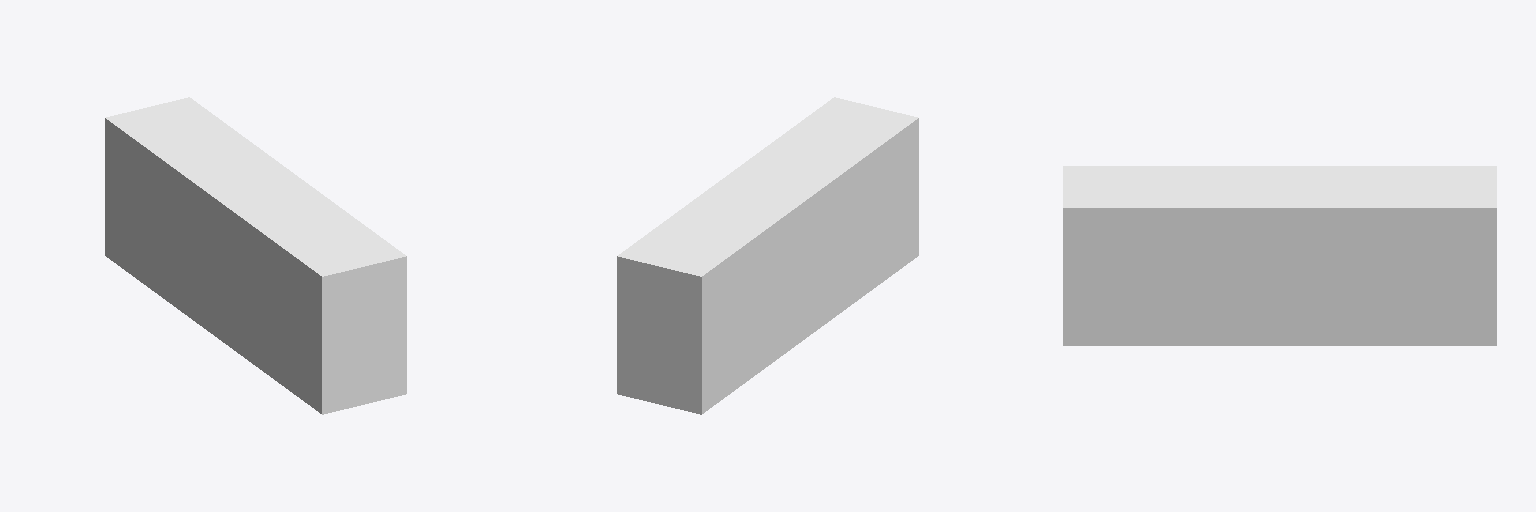
File: SolutionButtonMinor.obj
The picture shows the model from 3 angles: view 1: azimuth 30°, elevation 25°; view 2: azimuth 150°, elevation 25°; view 3: azimuth 270°, elevation 25°; orthographic projection.
Visible parts, largest first — view 1: object 1; view 2: object 1; view 3: object 1.
Part boxes in pixels (x1,y1,x2,y2): object 1: (105, 97, 406, 414); object 1: (617, 97, 918, 414); object 1: (1063, 166, 1496, 345).
Bounding box in the file's own units: 0.9 × 1.4 × 4.